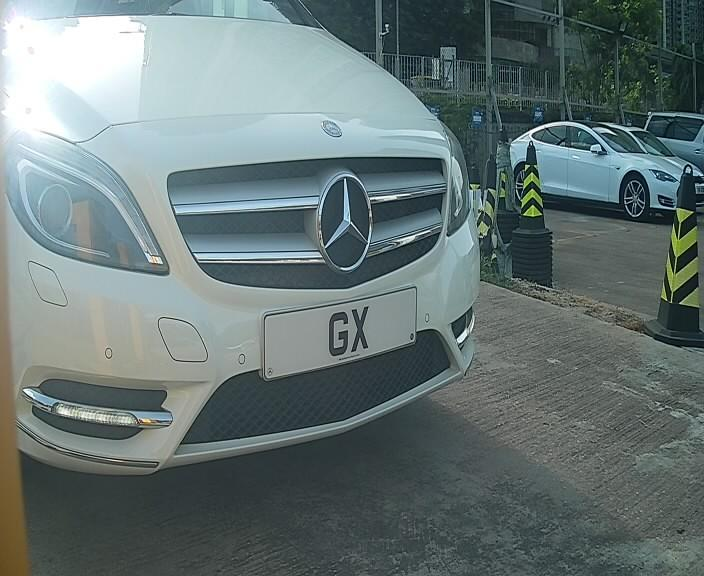privatecar: (1, 13, 525, 497)
